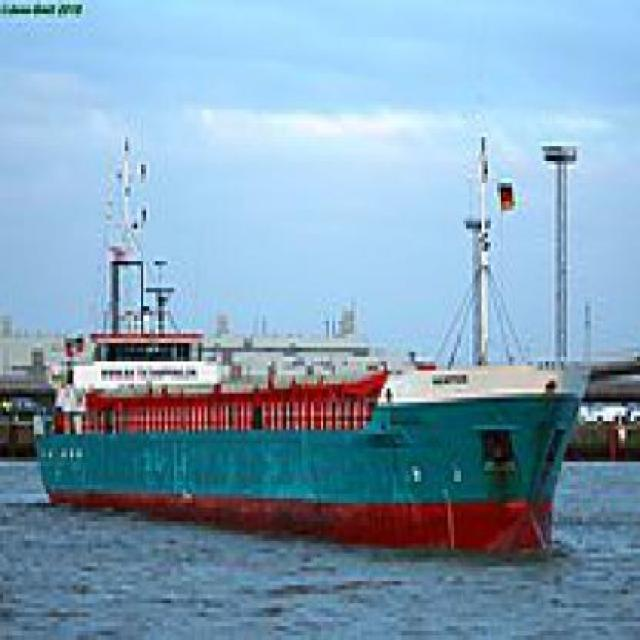container: (25, 111, 608, 573)
